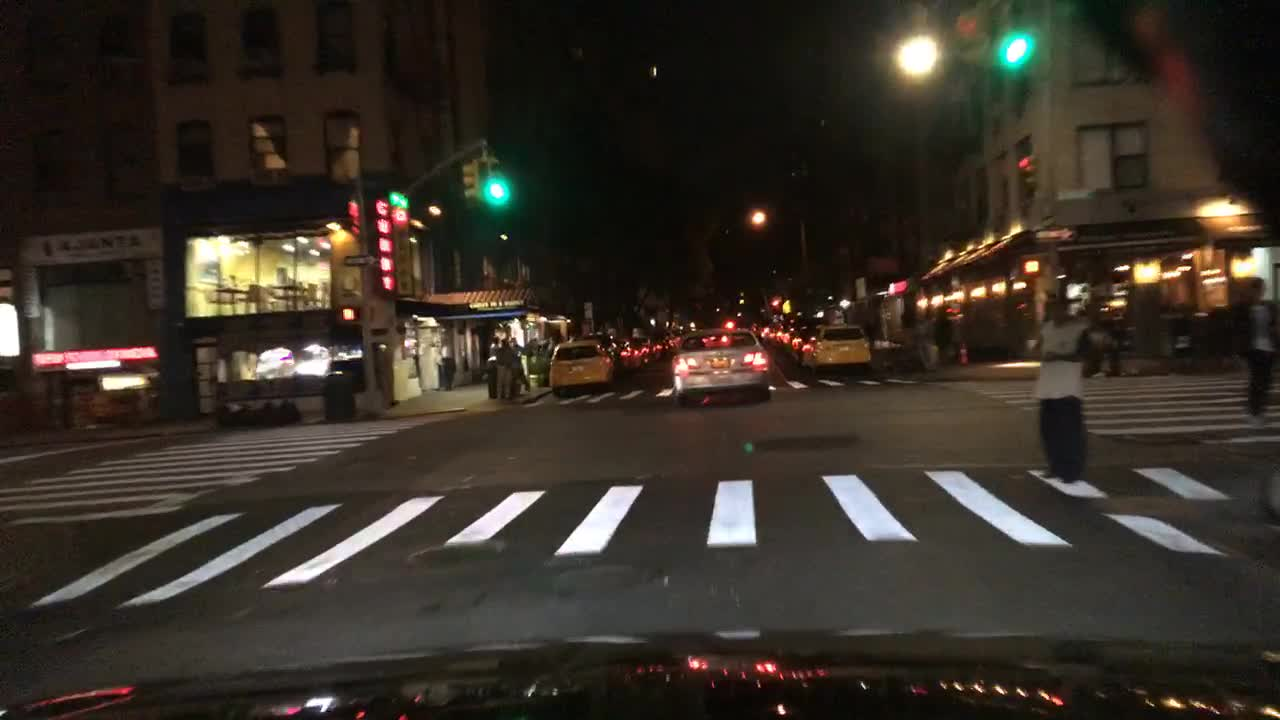car: (671, 325, 770, 407), (548, 338, 617, 397), (801, 322, 871, 373), (579, 332, 623, 376), (788, 324, 812, 364), (615, 336, 636, 371), (631, 338, 652, 364), (771, 323, 784, 346), (781, 326, 791, 354), (650, 340, 662, 361), (759, 325, 772, 344), (750, 322, 762, 340), (669, 334, 682, 350), (662, 338, 671, 358)
person: (1028, 298, 1090, 484), (1242, 273, 1278, 429), (494, 339, 512, 401), (934, 304, 949, 364), (440, 339, 455, 392), (925, 306, 937, 369), (507, 334, 526, 358), (488, 334, 500, 355)
traffic light: (957, 5, 993, 65), (1001, 5, 1031, 72), (485, 153, 510, 207), (461, 158, 481, 201), (1017, 153, 1037, 184), (1023, 257, 1038, 274), (340, 307, 355, 321)
traffic sign: (1035, 228, 1074, 240), (344, 255, 379, 266), (779, 299, 790, 313)
